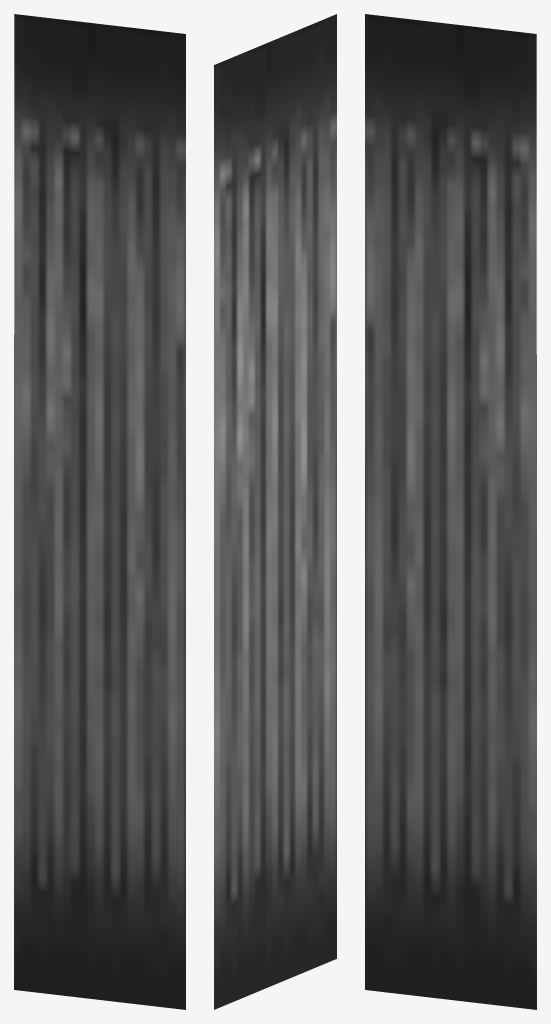
File: W_I_wa_Verschluß [Wellblech]_813.glb
The picture shows the model from 3 angles, left to right: view 1: azimuth 90°, elevation 25°; view 2: azimuth 150°, elevation 25°; view 3: azimuth 270°, elevation 25°; orthographic projection. The views are drawn at different scales.
Parts seen in each view (by area): view 1: pPlaneShape23; view 2: pPlaneShape23; view 3: pPlaneShape23.
Part boxes in pixels (x1,y1,x2,y2): pPlaneShape23: (14, 14, 185, 1009); pPlaneShape23: (214, 14, 336, 1009); pPlaneShape23: (365, 14, 536, 1009).
Bounding box in the file's own units: 0.0154 × 0.3486 × 0.0556.
Materials: 1 (1 with a texture image).
